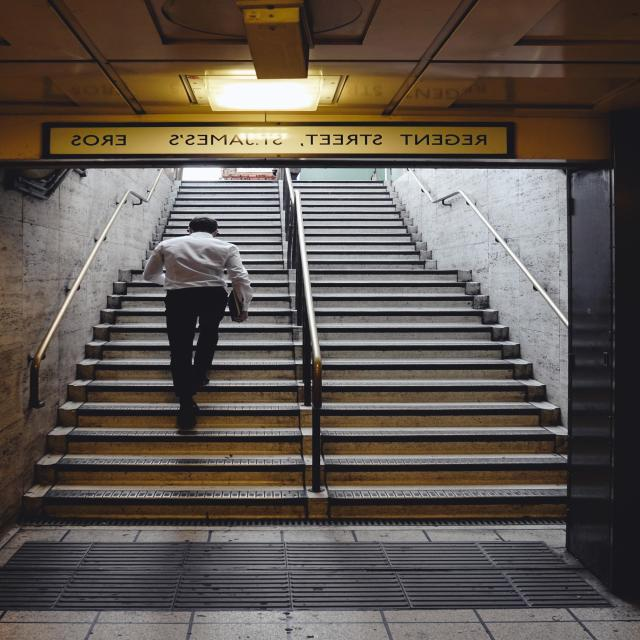adult: (140, 216, 260, 426)
